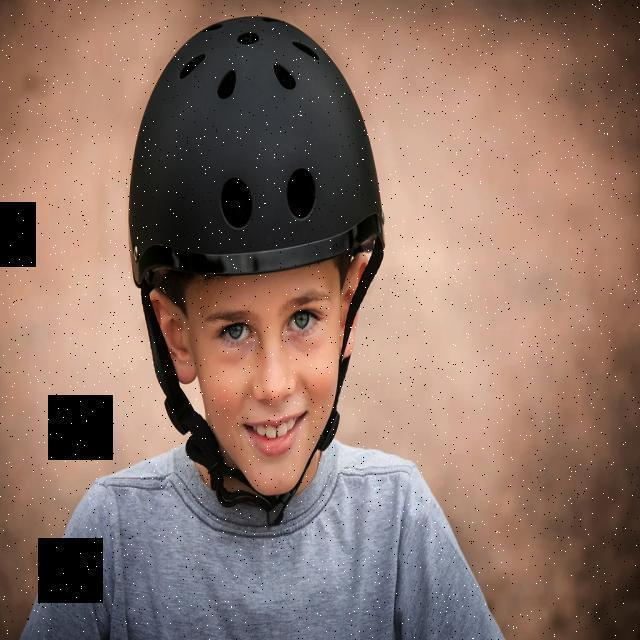helmet: (132, 10, 384, 514)
